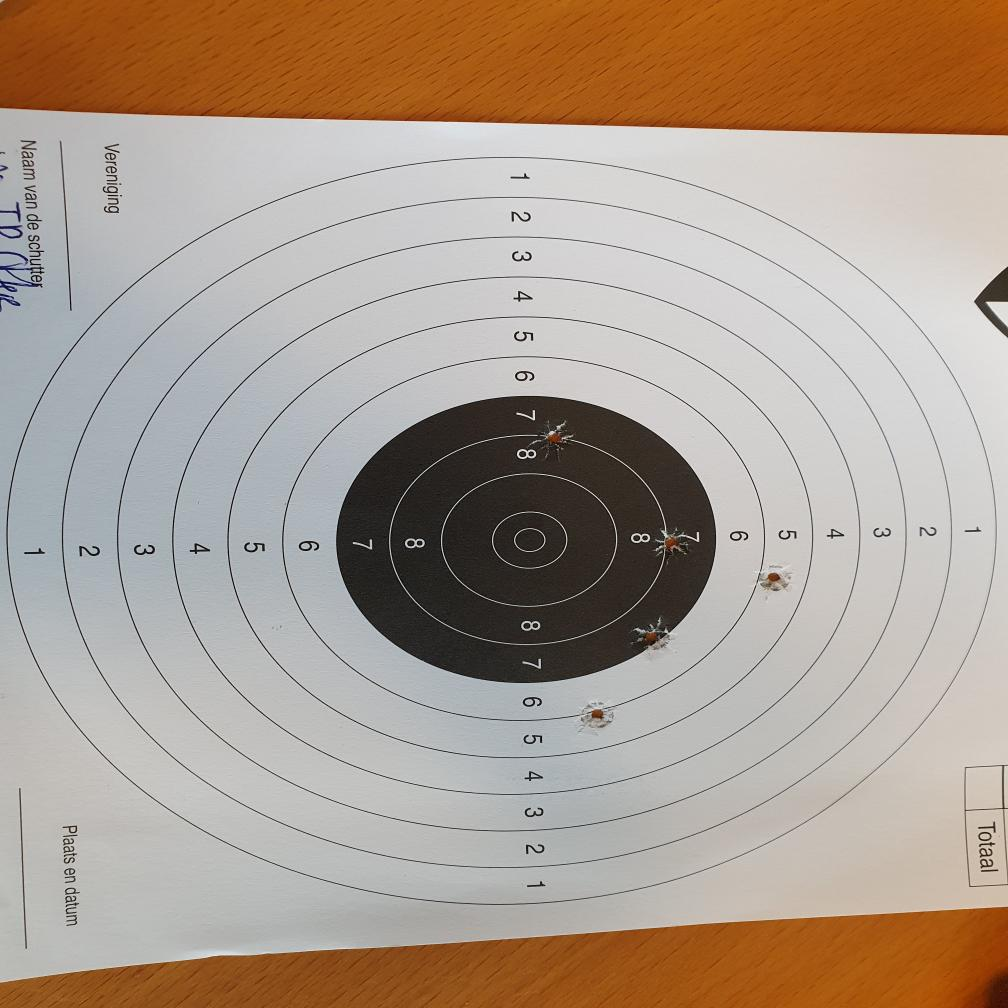6: (749, 560, 799, 594), (578, 701, 619, 736)
7: (633, 618, 678, 658)
8: (529, 422, 578, 458), (650, 525, 694, 562)
Target: (0, 157, 1002, 906)
black_contour: (336, 394, 716, 684)
